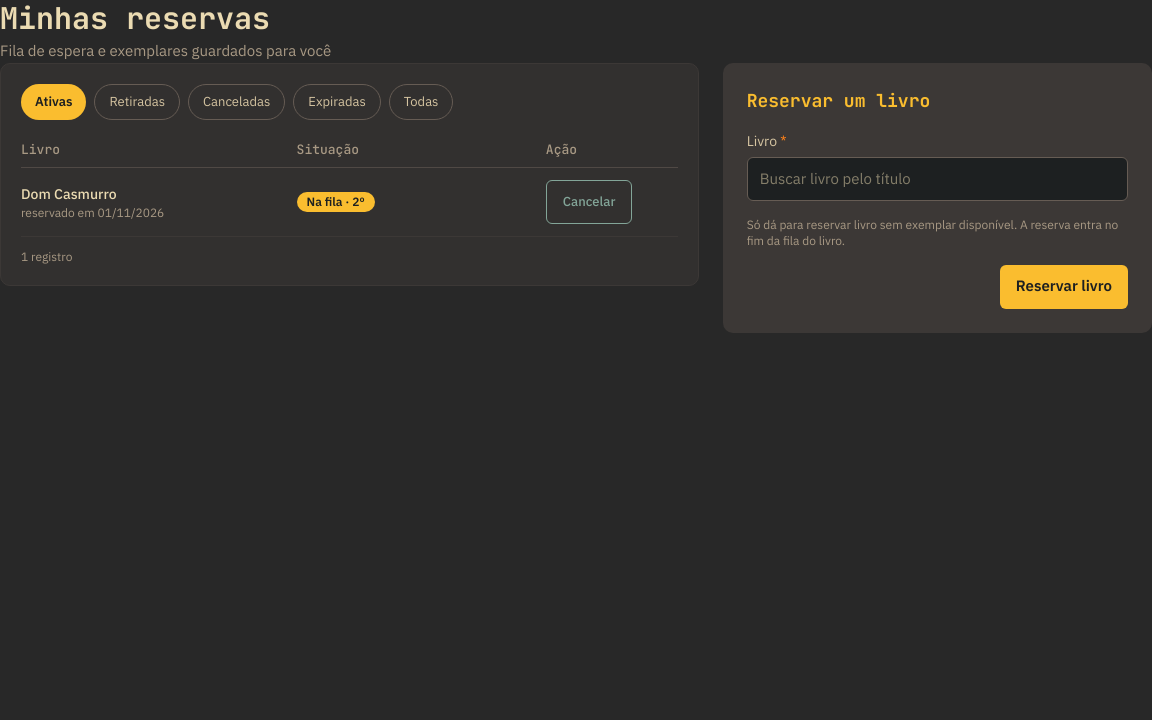
Test: minhas reservas › cancela só depois de confirmar
Click the button with aria-label "Cancelar reserva de" at coordinates (589, 202), box left=546, top=180, right=632, bottom=224
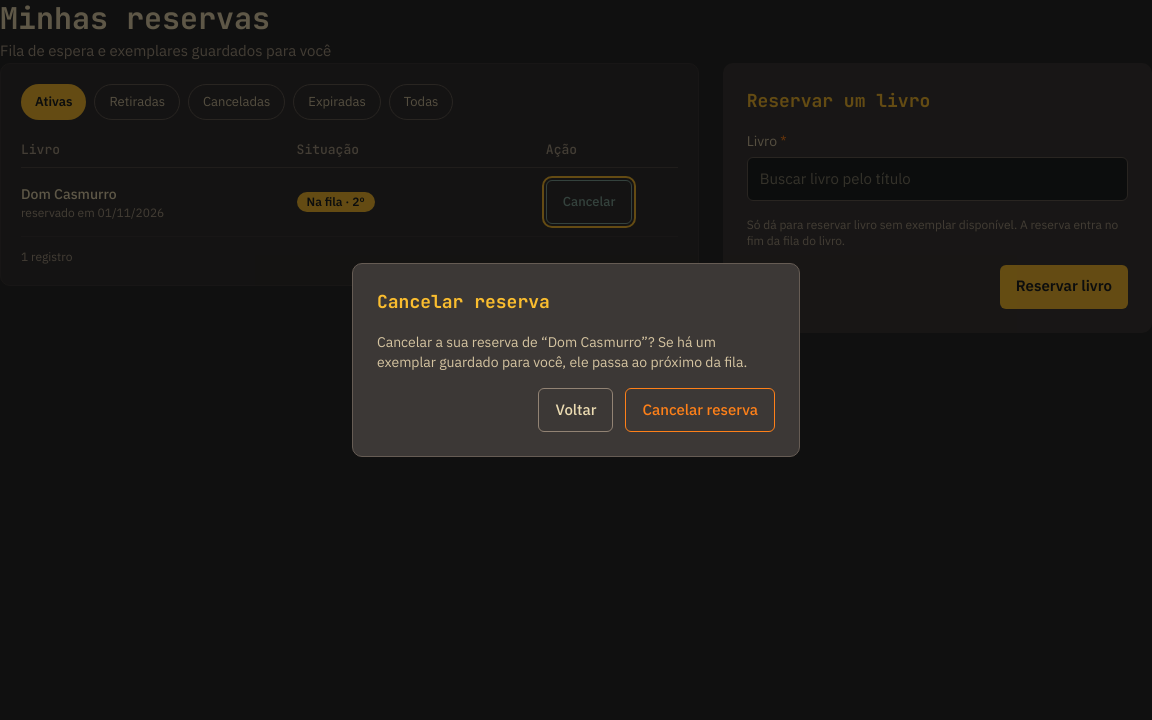
Click the button "Cancelar reserva" at coordinates (700, 410), box left=626, top=388, right=775, bottom=432
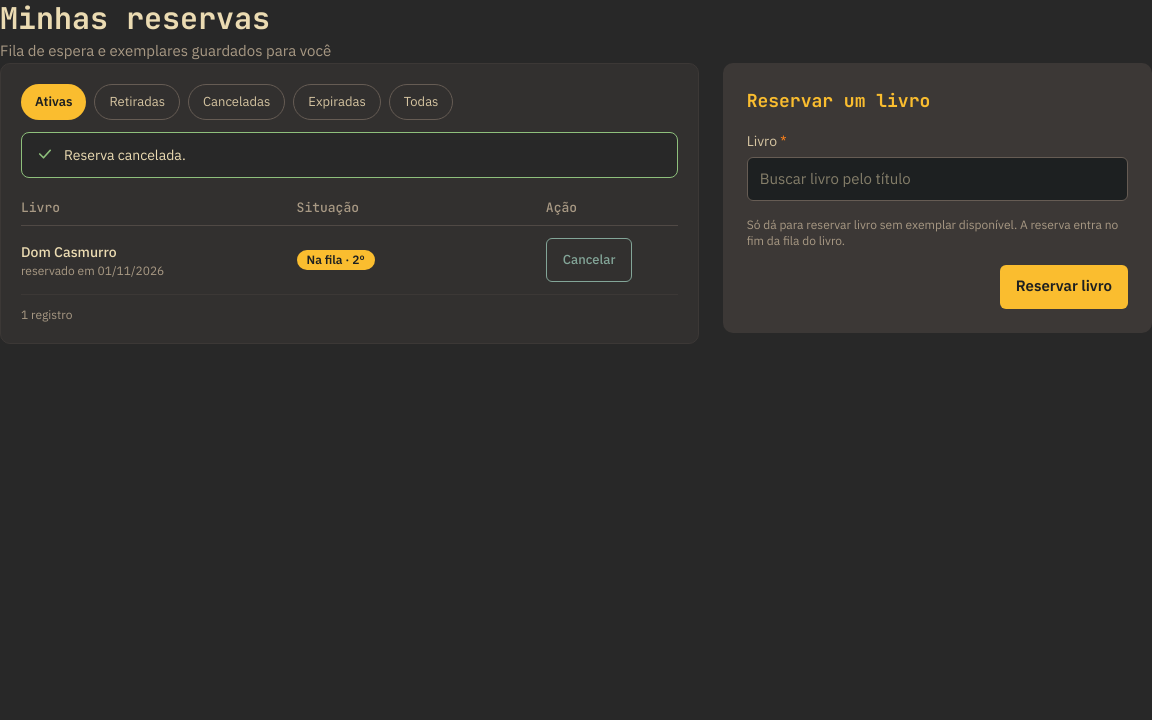
Check: the text "Reserva cancelada." is shown, box left=64, top=144, right=186, bottom=164
